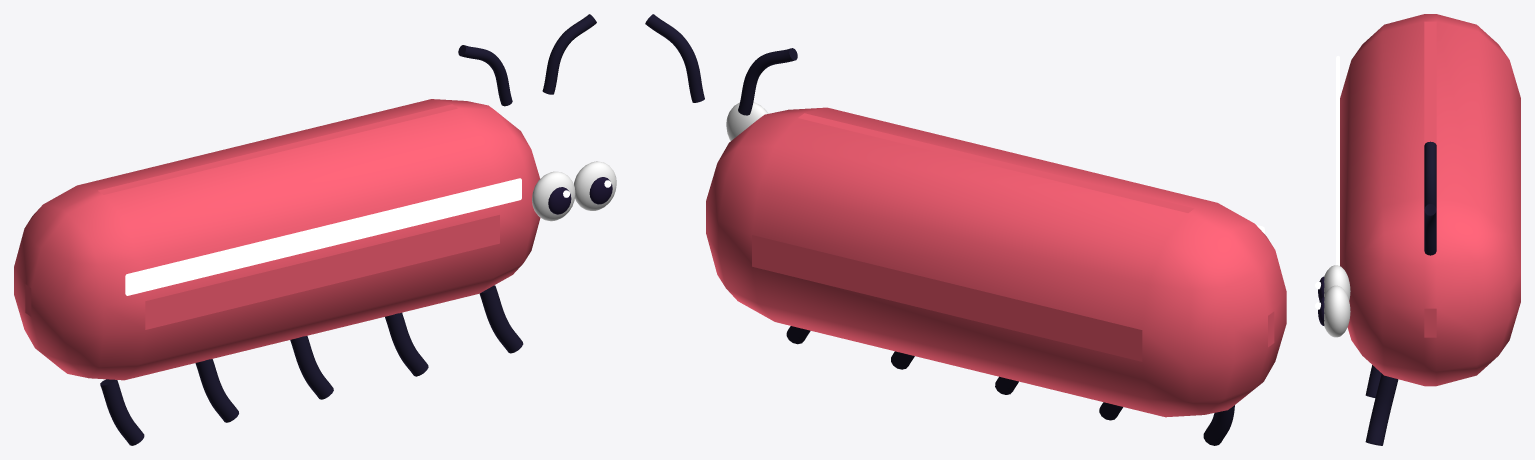
File: clanek_cerveny.glb
The picture shows the model from 3 angles, left to right: view 1: azimuth 30°, elevation 25°; view 2: azimuth 150°, elevation 25°; view 3: azimuth 270°, elevation 25°; orthographic projection. The views are drawn at different scales.
Parts seen in each view (by area): view 1: clanek_cerveny_m, clanek_cerveny_pruh, hlava_cerveny, clanek_cerveny_noha_m_-2, clanek_cerveny_noha_m_2, clanek_cerveny_noha_m_0, clanek_cerveny_noha_m_1, clanek_cerveny_noha_m_-1, hlava_cerveny_tykadlo_-1; view 2: clanek_cerveny_m, hlava_cerveny, hlava_cerveny_tykadlo_-1, clanek_cerveny_noha_m_-2; view 3: clanek_cerveny_m, hlava_cerveny, clanek_cerveny_noha_m_2, clanek_cerveny_pruh, hlava_cerveny_tykadlo_-1, clanek_cerveny_noha_m_1.
Boxes of the visible parts, left/top/right/bottom form: clanek_cerveny_m: left=14, top=99, right=540, bottom=380; clanek_cerveny_pruh: left=125, top=178, right=521, bottom=295; hlava_cerveny: left=532, top=14, right=616, bottom=221; clanek_cerveny_noha_m_-2: left=100, top=379, right=144, bottom=445; clanek_cerveny_noha_m_2: left=479, top=285, right=523, bottom=353; clanek_cerveny_noha_m_0: left=290, top=336, right=333, bottom=399; clanek_cerveny_noha_m_1: left=385, top=312, right=428, bottom=376; clanek_cerveny_noha_m_-1: left=195, top=359, right=238, bottom=422; hlava_cerveny_tykadlo_-1: left=458, top=45, right=512, bottom=106; clanek_cerveny_m: left=706, top=107, right=1286, bottom=417; hlava_cerveny: left=645, top=14, right=768, bottom=140; hlava_cerveny_tykadlo_-1: left=738, top=48, right=797, bottom=115; clanek_cerveny_noha_m_-2: left=1203, top=405, right=1234, bottom=445; clanek_cerveny_m: left=1340, top=14, right=1520, bottom=386; hlava_cerveny: left=1315, top=203, right=1436, bottom=337; clanek_cerveny_noha_m_2: left=1365, top=373, right=1398, bottom=445; clanek_cerveny_pruh: left=1336, top=56, right=1339, bottom=265; hlava_cerveny_tykadlo_-1: left=1424, top=141, right=1436, bottom=208; clanek_cerveny_noha_m_1: left=1365, top=365, right=1381, bottom=397.
Bounding box in the file's own units: 3.29 × 1.62 × 1.02.
